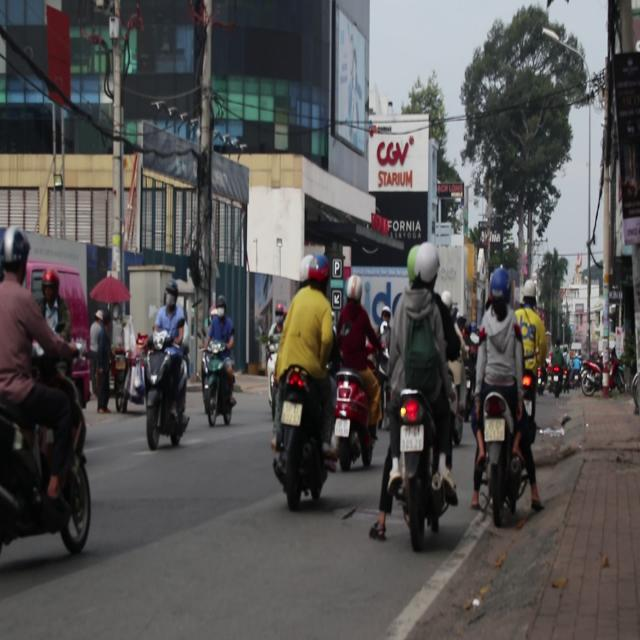motorbike: (0, 363, 94, 581), (376, 379, 454, 550), (276, 361, 332, 520), (479, 393, 531, 529), (143, 335, 190, 450), (332, 369, 381, 473), (201, 346, 238, 428), (111, 343, 135, 414)
